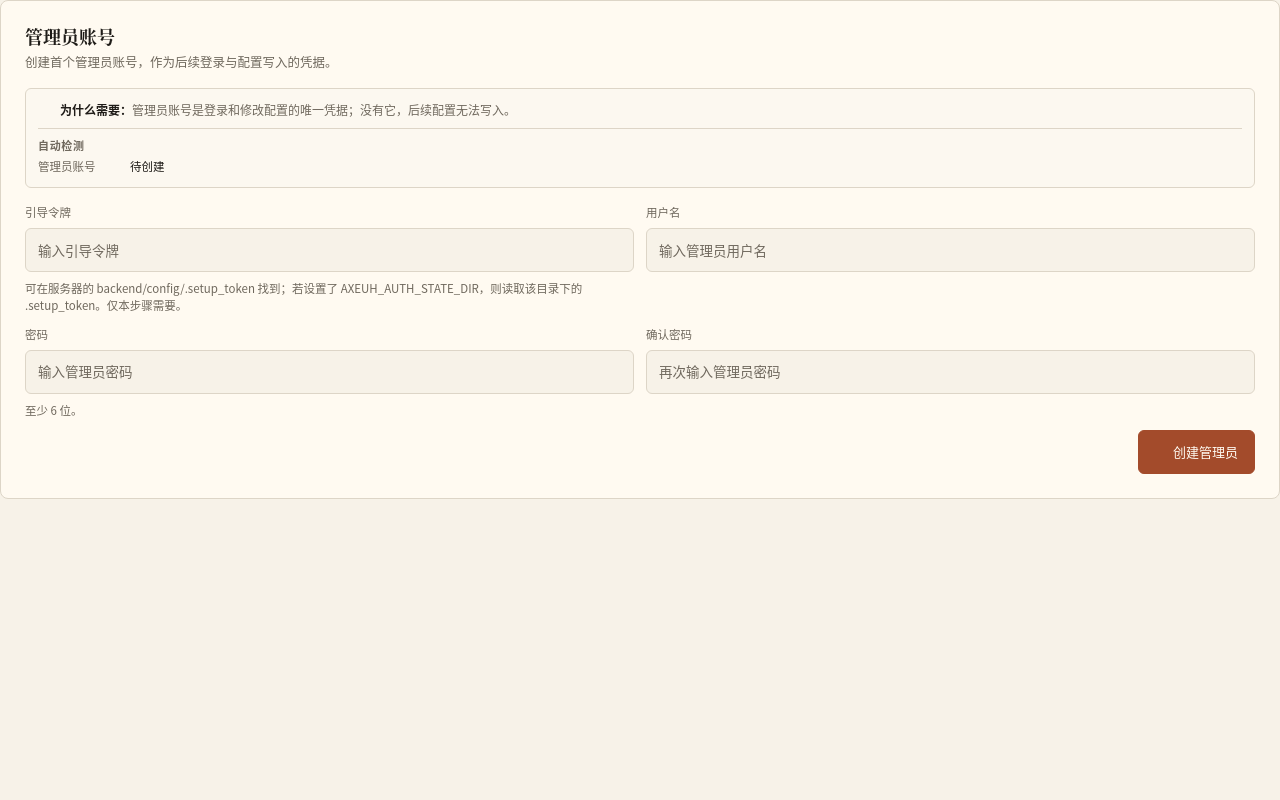
Test: AccountStep › validates the username, password length and confirmation
Submit the form, box [25, 204, 1255, 474]
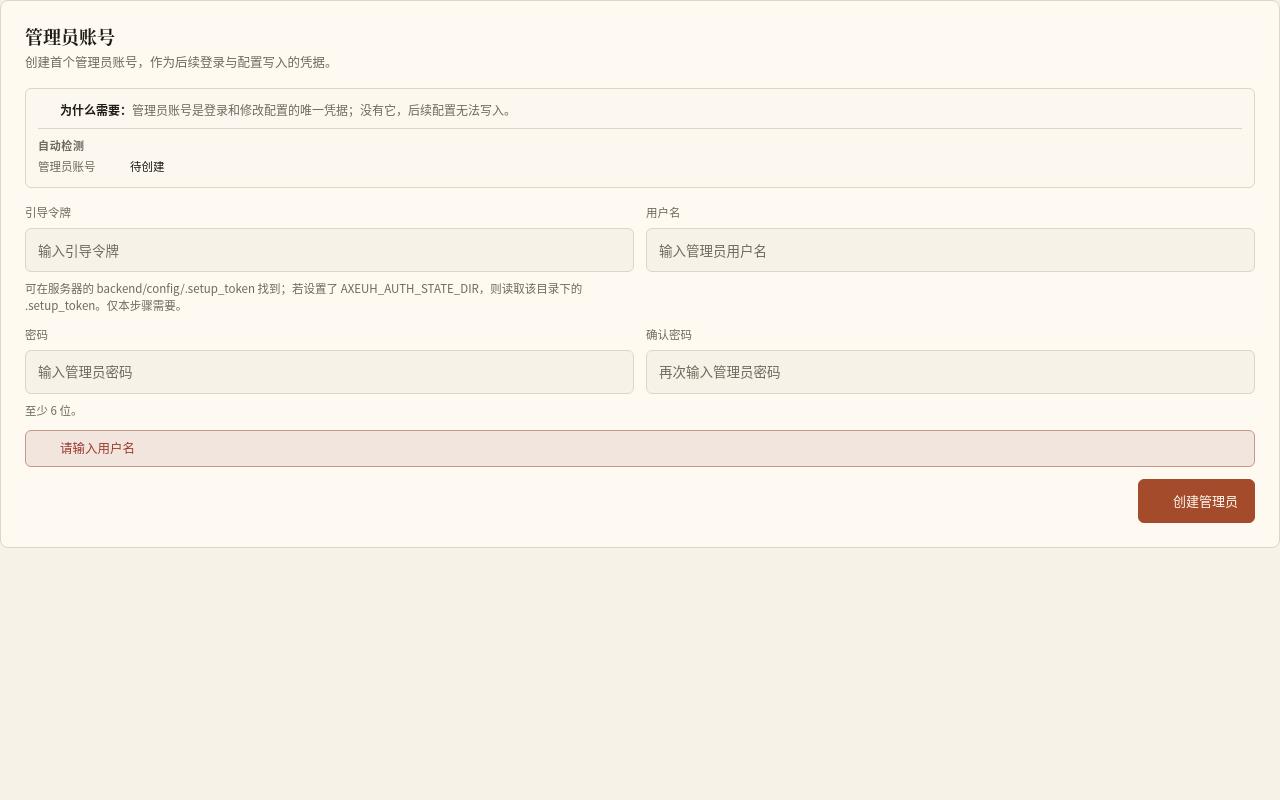
Check: the message "请输入用户名" is shown, box [25, 430, 1255, 467]
Type "admin" into the field labelled "用户名" at (950, 250), box [646, 228, 1255, 272]
Type "123" into the password field labelled "密码" at (330, 372), box [25, 350, 634, 394]
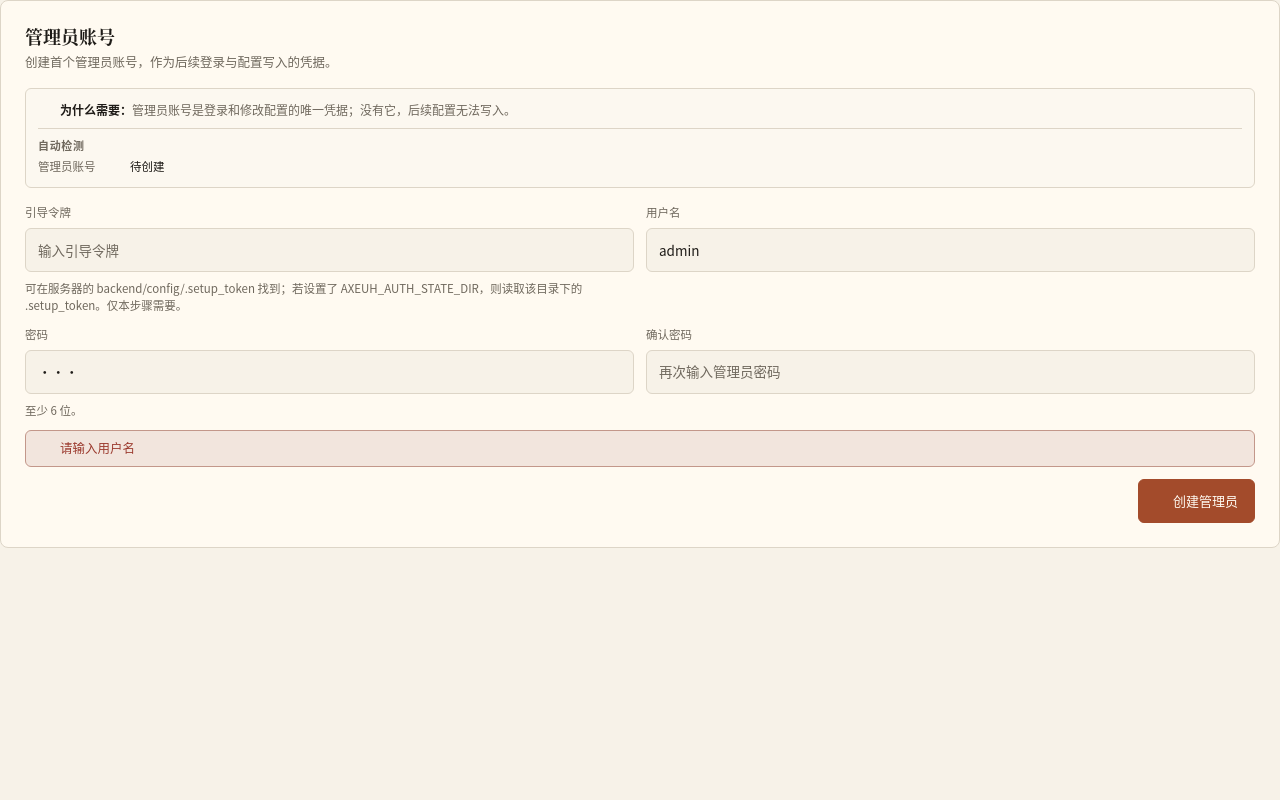
Submit the form, box [25, 204, 1255, 523]
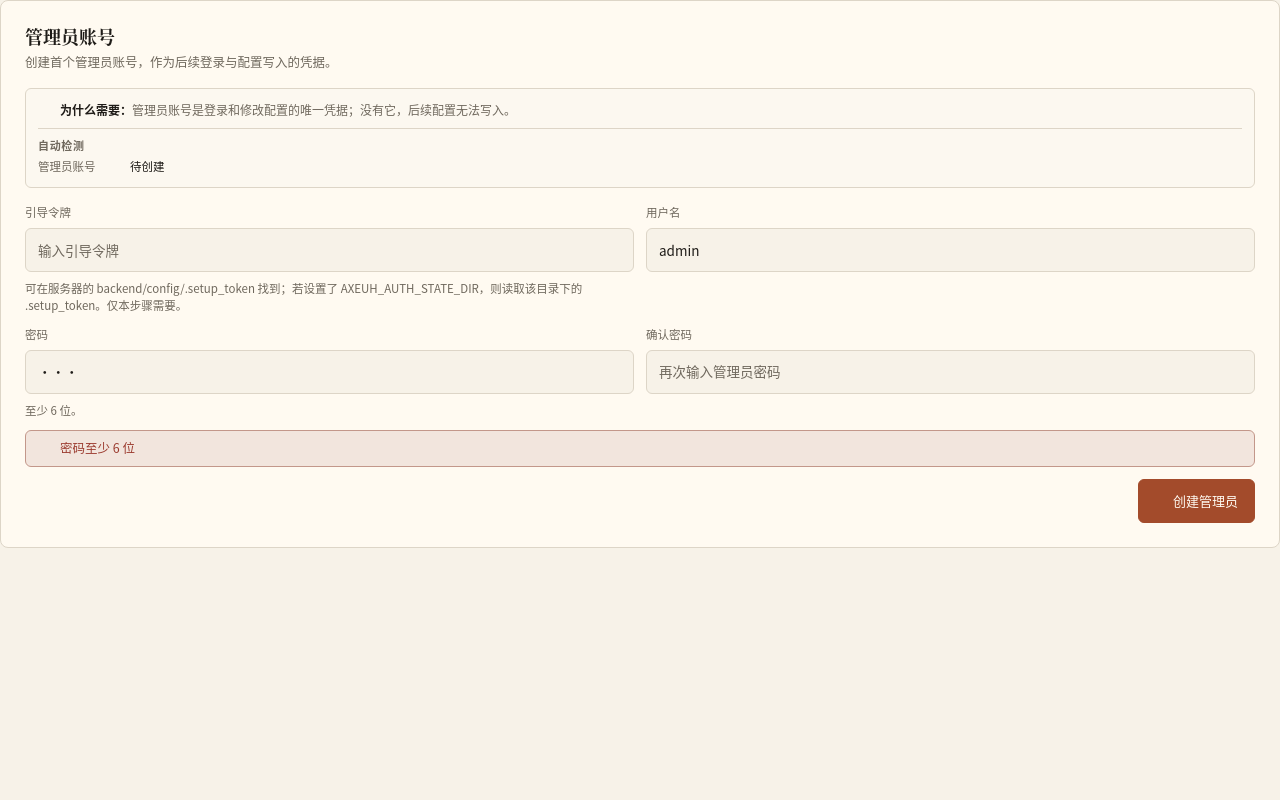
Check: the message "密码至少 6 位" is shown, box [25, 430, 1255, 467]
Type "pw123456" into the password field labelled "密码" at (330, 372), box [25, 350, 634, 394]
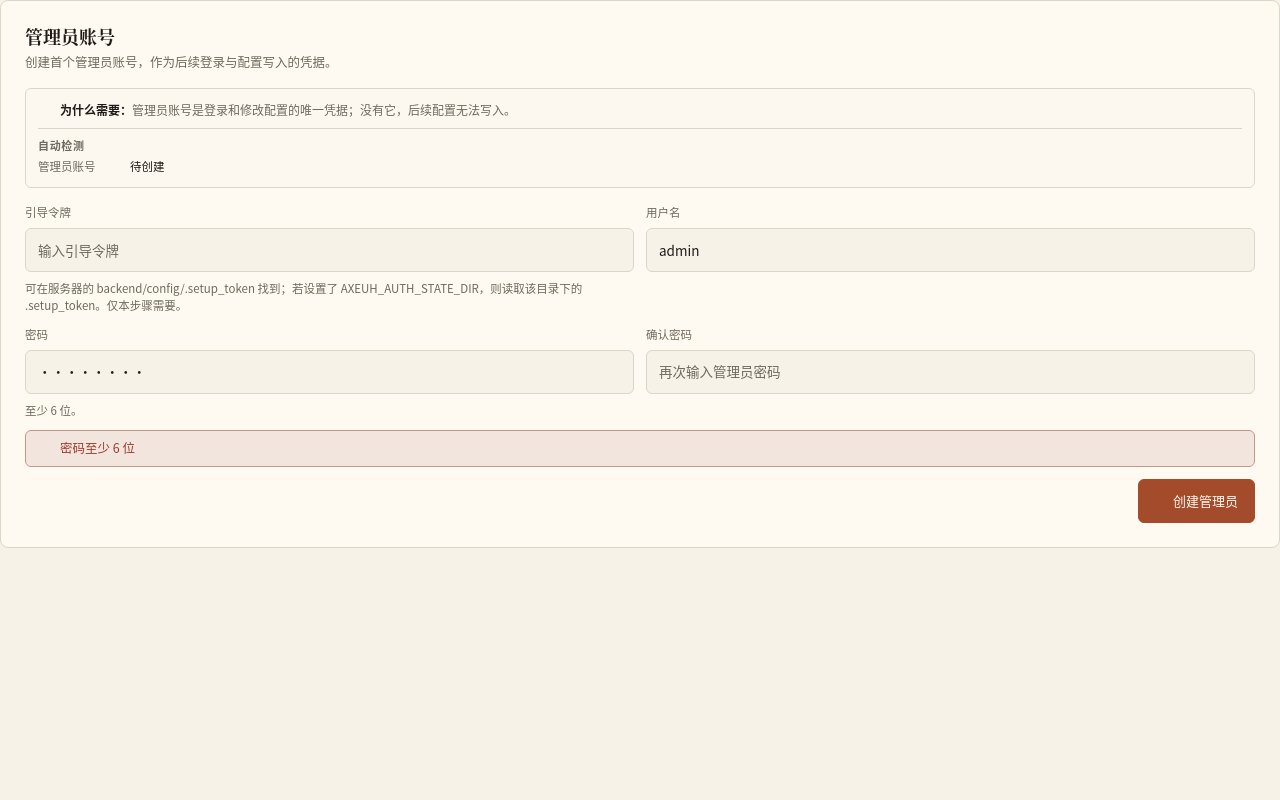
Type "other-password" into the password field labelled "确认密码" at (950, 372), box [646, 350, 1255, 394]
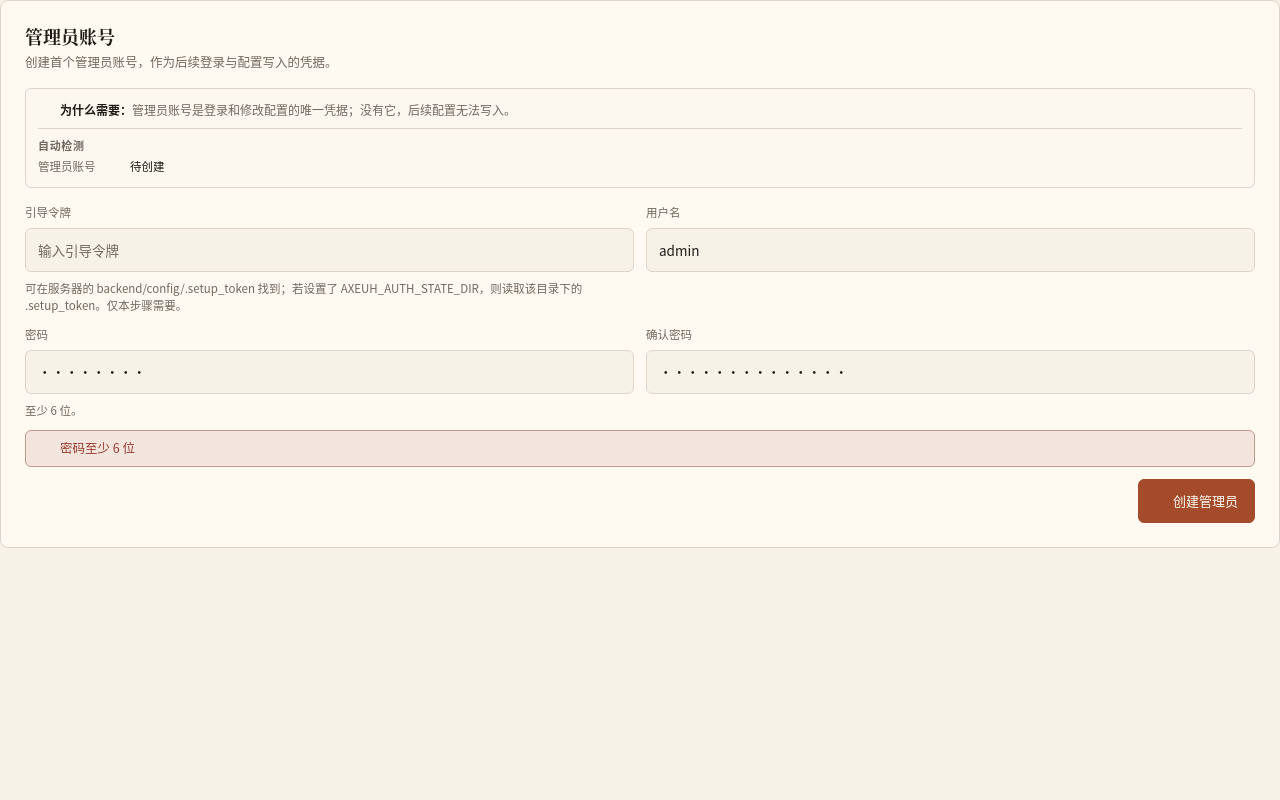
Submit the form, box [25, 204, 1255, 523]
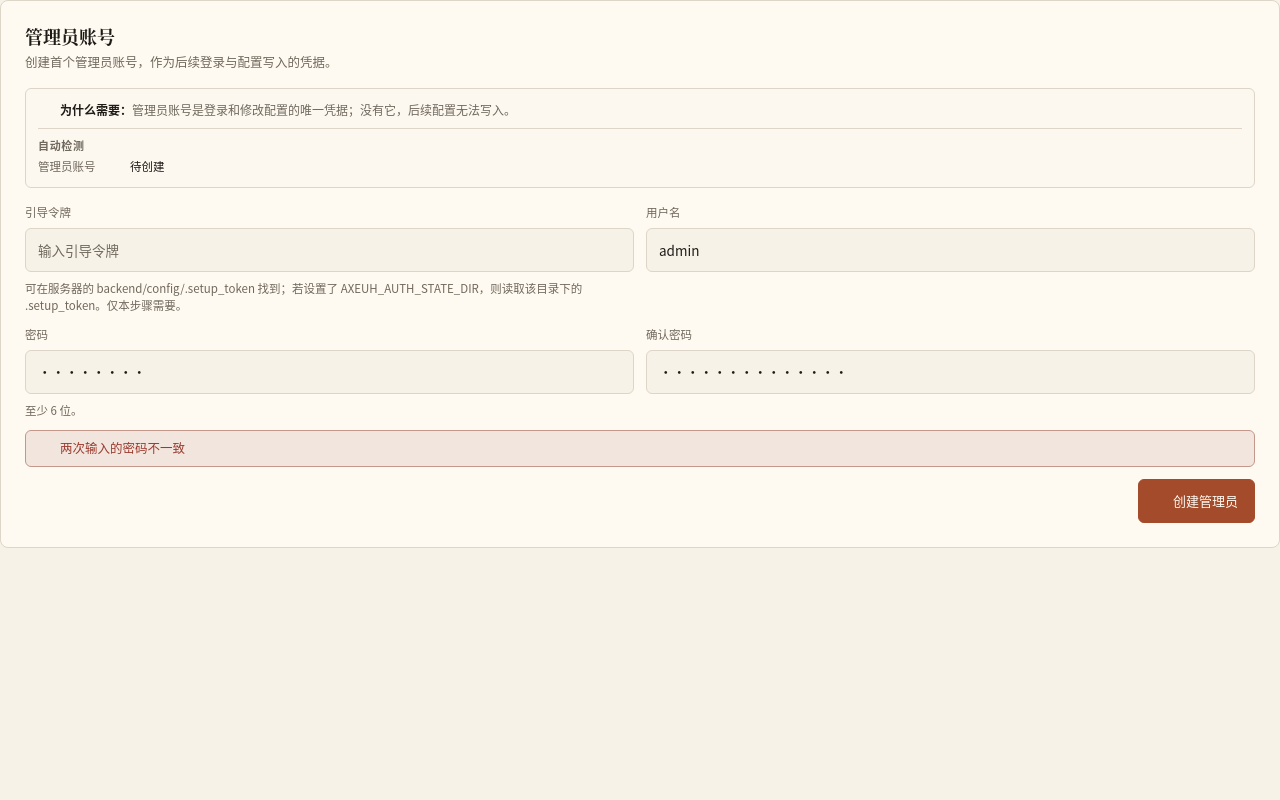
Check: the message "两次输入的密码不一致" is shown, box [25, 430, 1255, 467]
